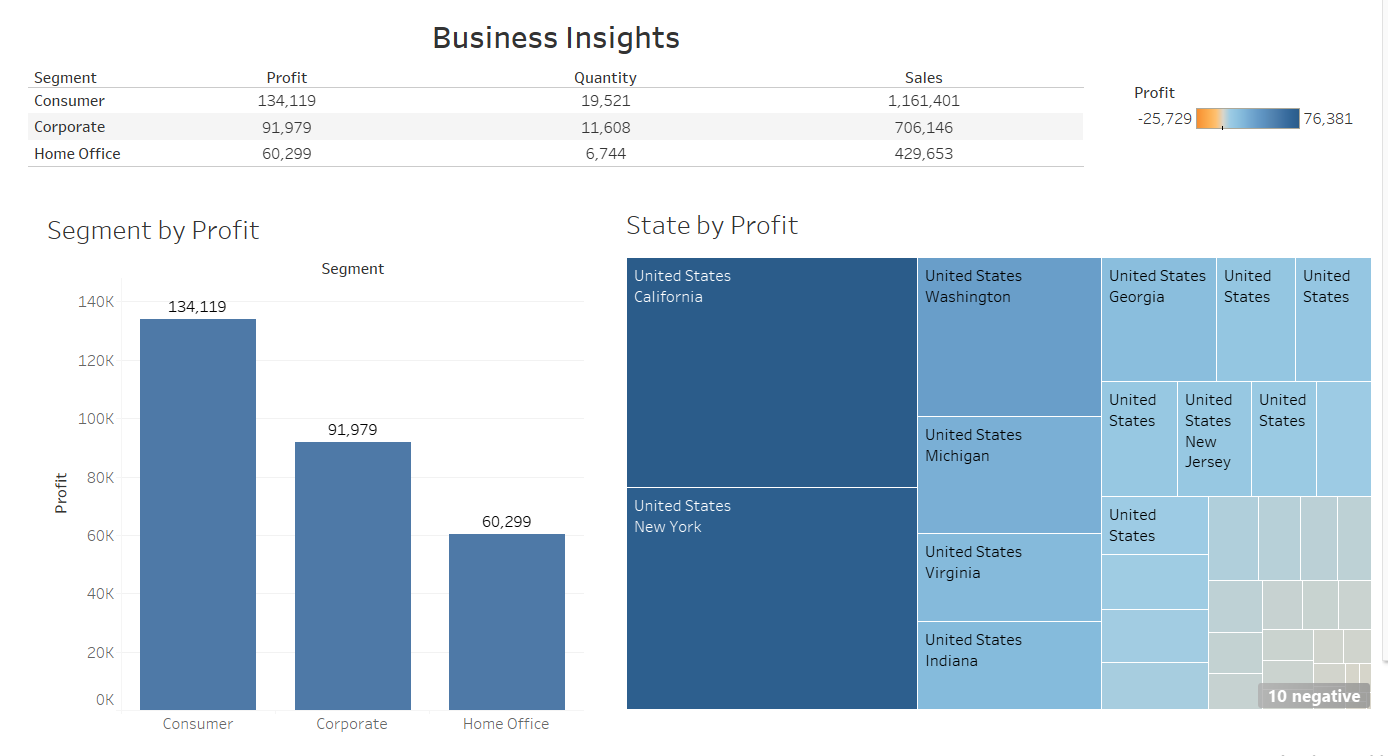

Layout of this report page (visuals, bound fields, positions):
{"tool":"tableau","page":{"name":"Dashboard 1","canvas":[1000,1000],"units":"permille","ordinal":0},"visuals":[{"type":"worksheet","title":"Data","mark":"Automatic","rows":["Segment"],"box":[31.7,39.4,743.7,192.1]},{"type":"legend","title":"State by Profit","param":"[federated.0kjg4a71808j961expdvo0b25w8q].[sum:Profit:qk]","box":[810.6,126.9,157.8,86.2]},{"type":"worksheet","title":"State by Profit","mark":"Automatic","box":[450,275.9,530.3,629.3]},{"type":"worksheet","title":"Segments by Profit","mark":"Automatic","rows":["Profit"],"cols":["Segment"],"box":[42.2,282,381,667.5]}]}

Visuals, with their boxes on the dashboard's canvas, which has no fixed pixel size, in thousandths of its width and height (x1, y1, x2, y2). These are canvas units, not pixel positions in the 1388x756 screenshot, which may show the page scaled, cropped or inside an application window:
"Data" worksheet: locate(32, 39, 775, 232)
"State by Profit" legend: locate(811, 127, 968, 213)
"State by Profit" worksheet: locate(450, 276, 980, 905)
"Segments by Profit" worksheet: locate(42, 282, 423, 950)
